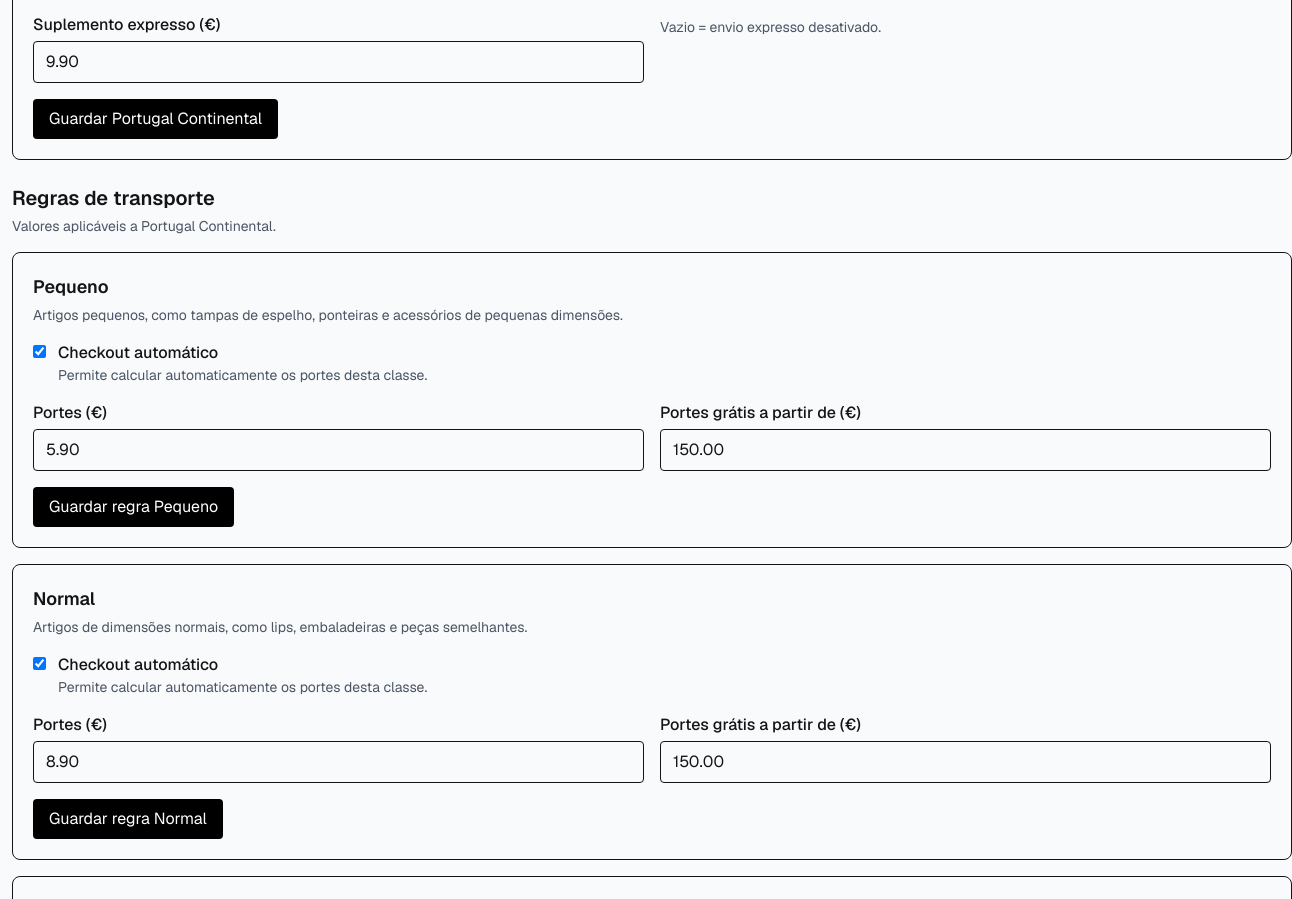
Test: CommercialSettingsClient › guarda portes e limite grátis da classe pequena
The width and height of the screenshot is (1292, 899).
(page scrolled)
Expected: the form "Pequeno" is shown, [12,252,1291,548]
Replace the text in the 1st field labelled "Portes (€)" with "6.40" at point(338, 450), box [33,429,644,471]
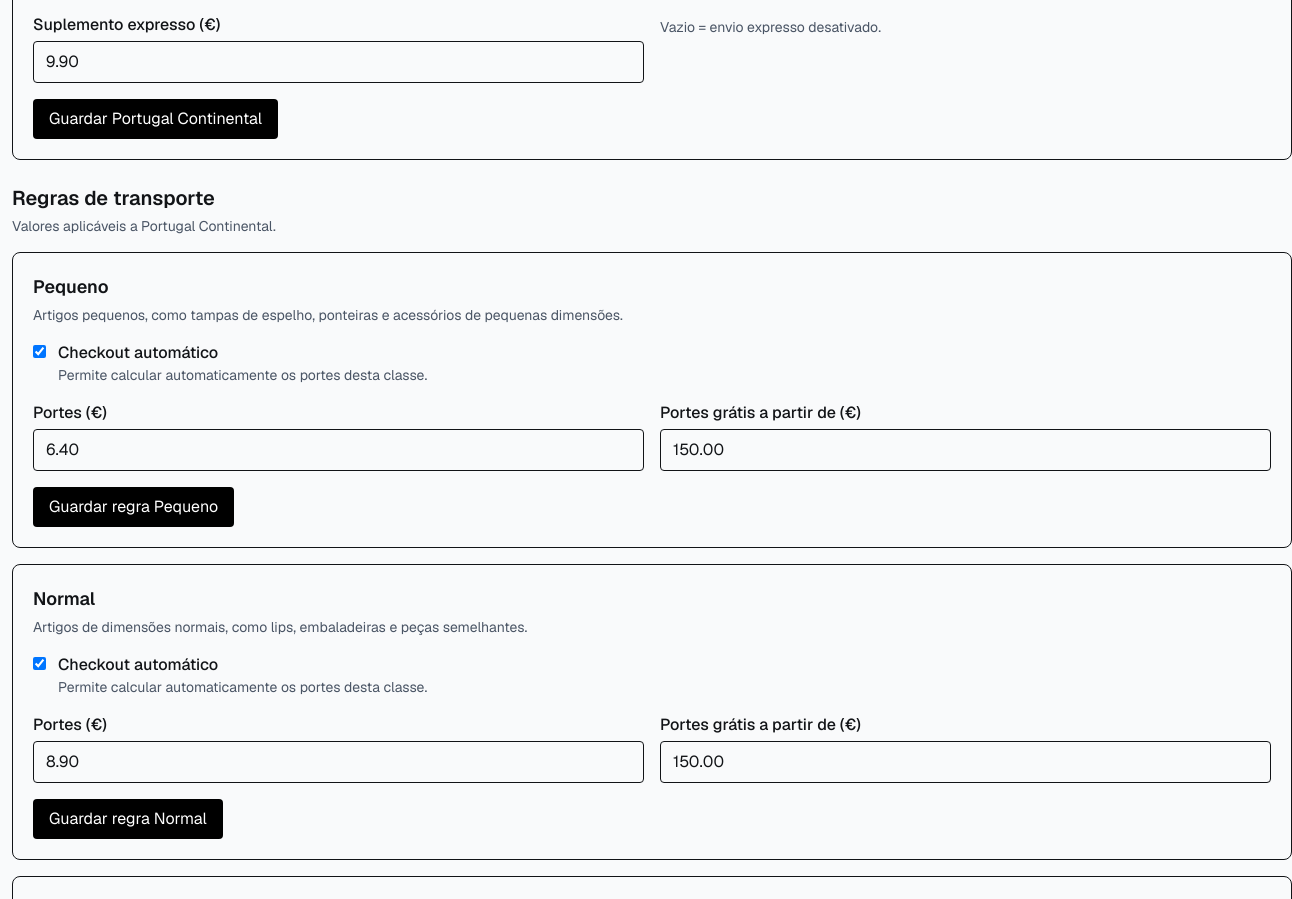
Type "175.00" into the 1st field labelled "Portes grátis a partir de (€)" at point(966, 450), box [660,429,1271,471]
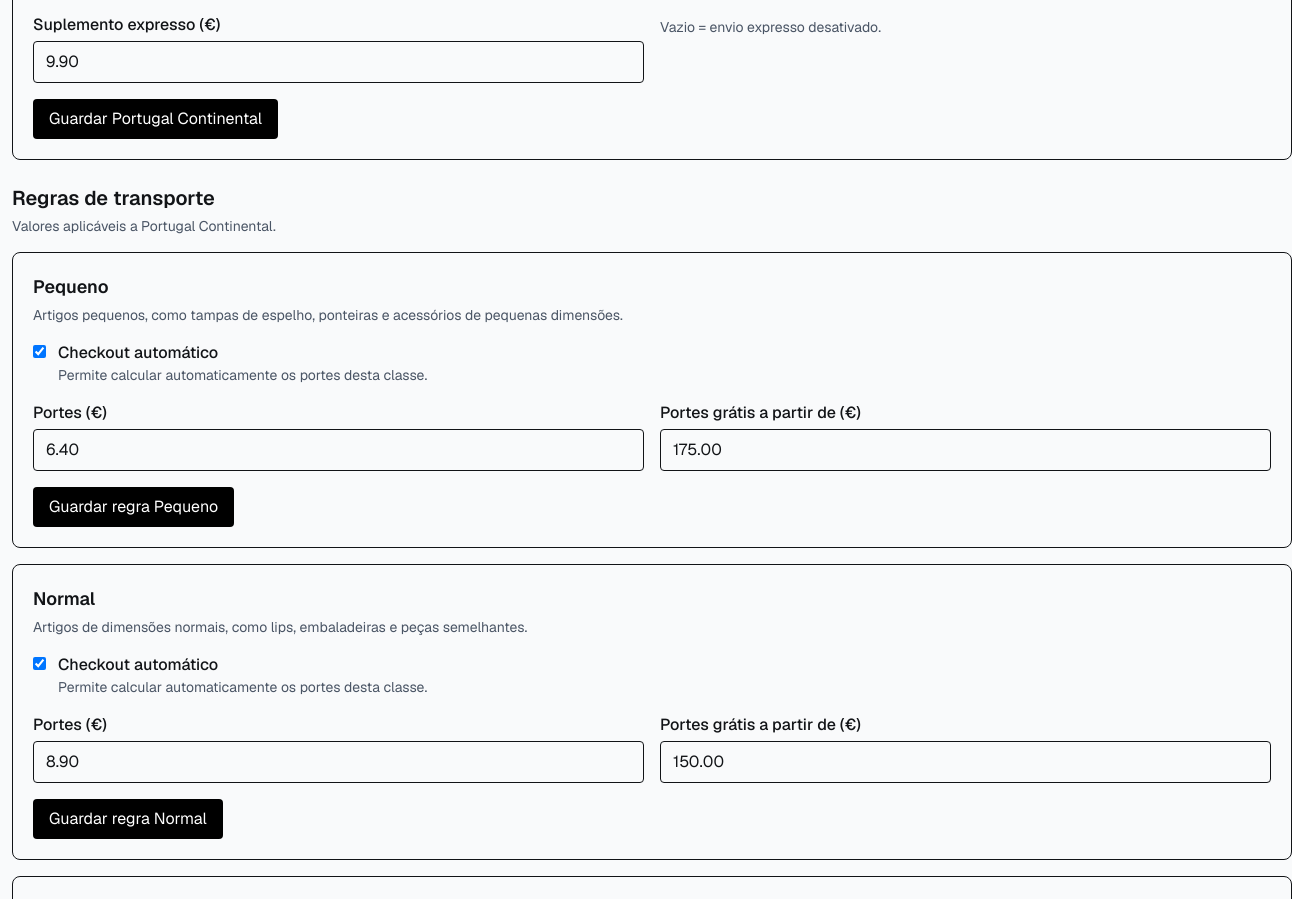
Click the button "Guardar regra Pequeno" at point(134, 507), box [33,487,234,527]
(page scrolled)
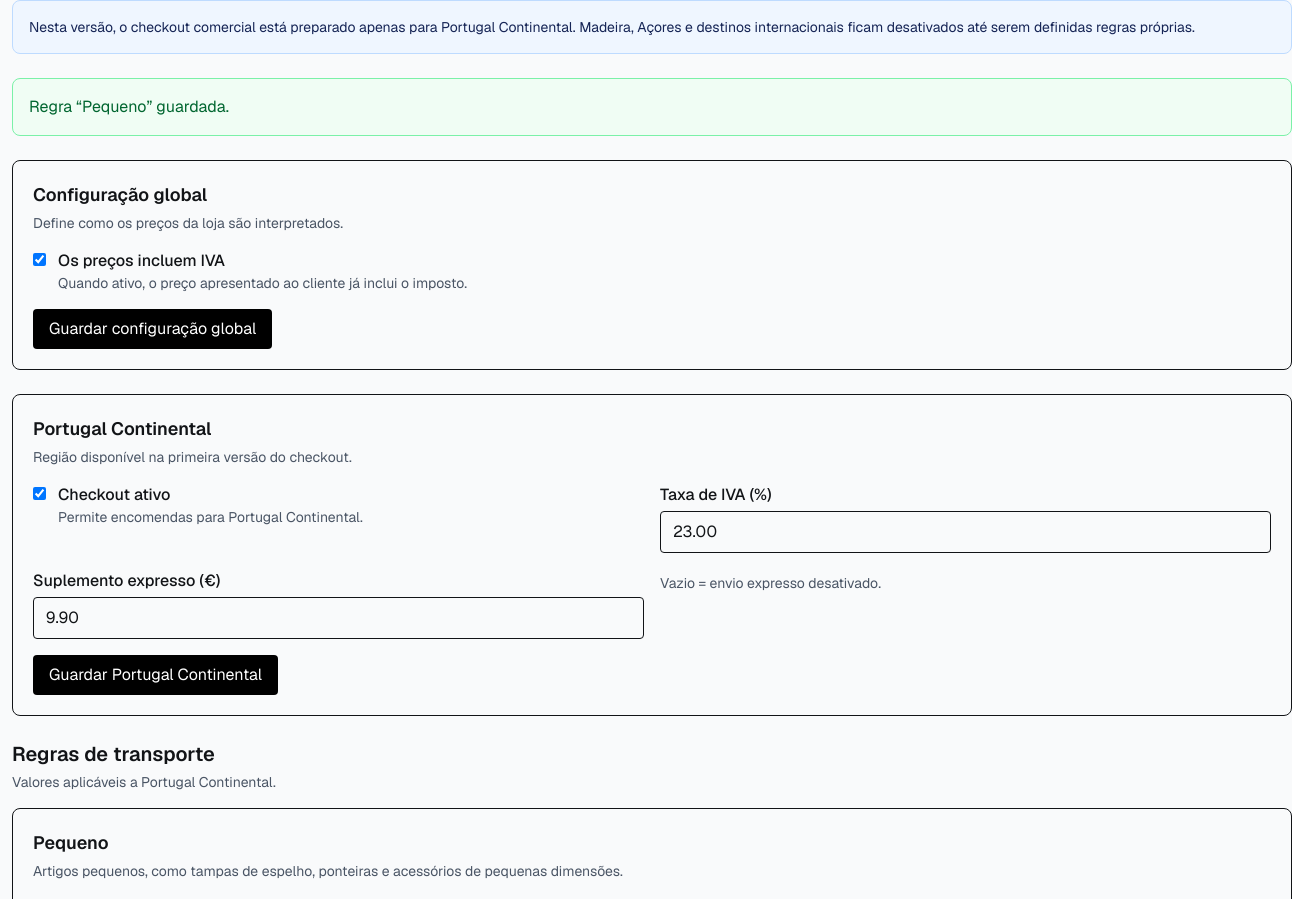
Result: the text "Regra “Pequeno” guardada." is shown at [12,78,1291,136]
